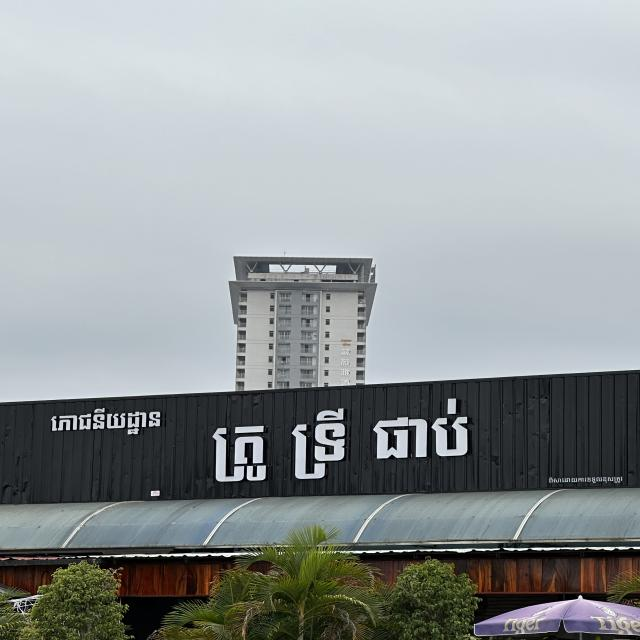2: (202, 396, 500, 493)
Yolov11kh: (36, 402, 166, 441)
